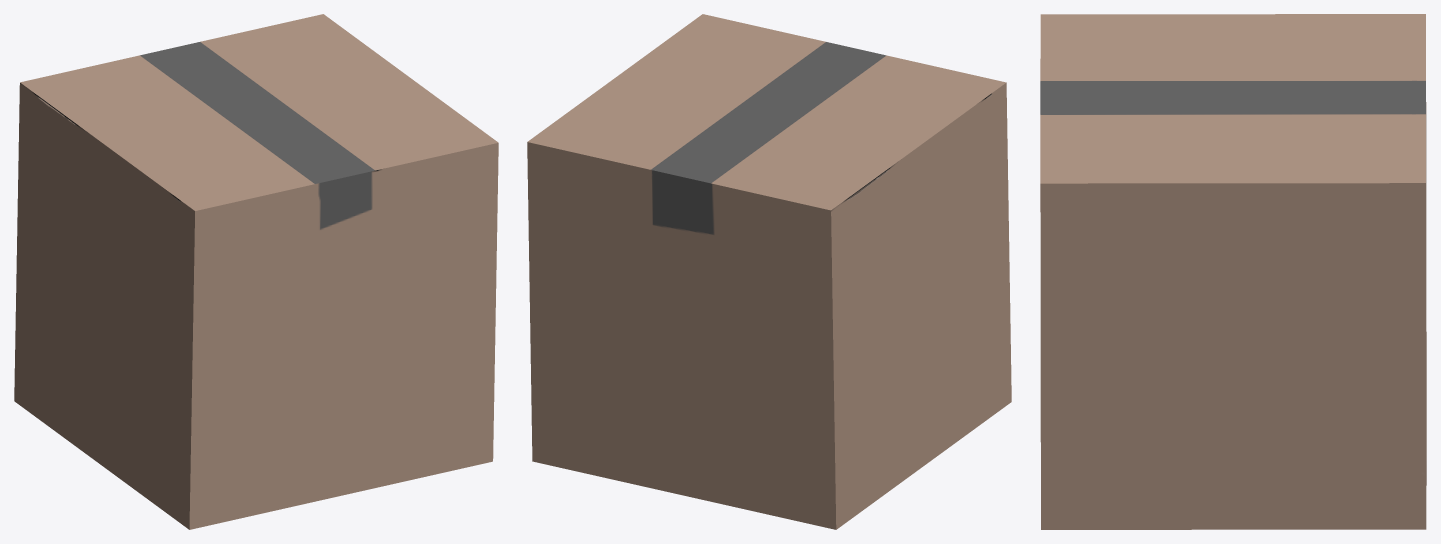
File: cajadecomida.fbx
The picture shows the model from 3 angles, left to right: view 1: azimuth 30°, elevation 25°; view 2: azimuth 150°, elevation 25°; view 3: azimuth 270°, elevation 25°; orthographic projection. The views are drawn at different scales.
Parts seen in each view (by area): view 1: Cube; view 2: Cube; view 3: Cube.
Part boxes in pixels (left/top/right/bottom): Cube: left=14, top=14, right=498, bottom=529; Cube: left=527, top=14, right=1011, bottom=529; Cube: left=1040, top=14, right=1426, bottom=529.
Size of the model in its own units: 204 by 204 by 200.
1 material, 1 textured.
